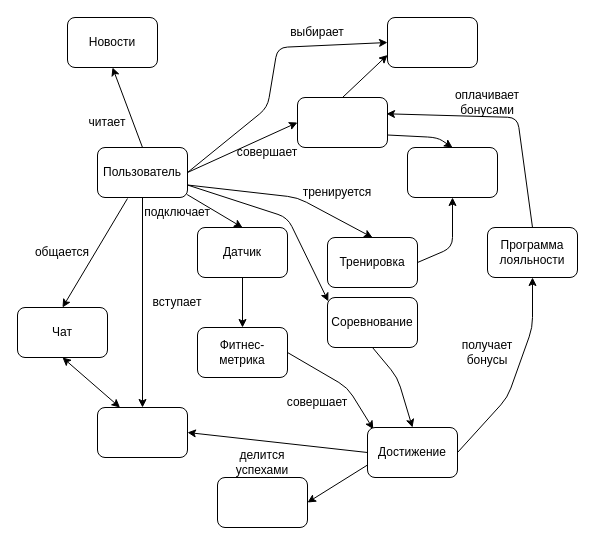
This 595x545 diagram has some shape labels left out. Each missing label, with the centre of its shape:
"Группа" goes at point 142,432.
"Заказ" goes at point 342,122.
"Инвентарь" goes at point 452,172.
"Социальная сеть" goes at point 262,502.
"Товар" goes at point 432,42.
